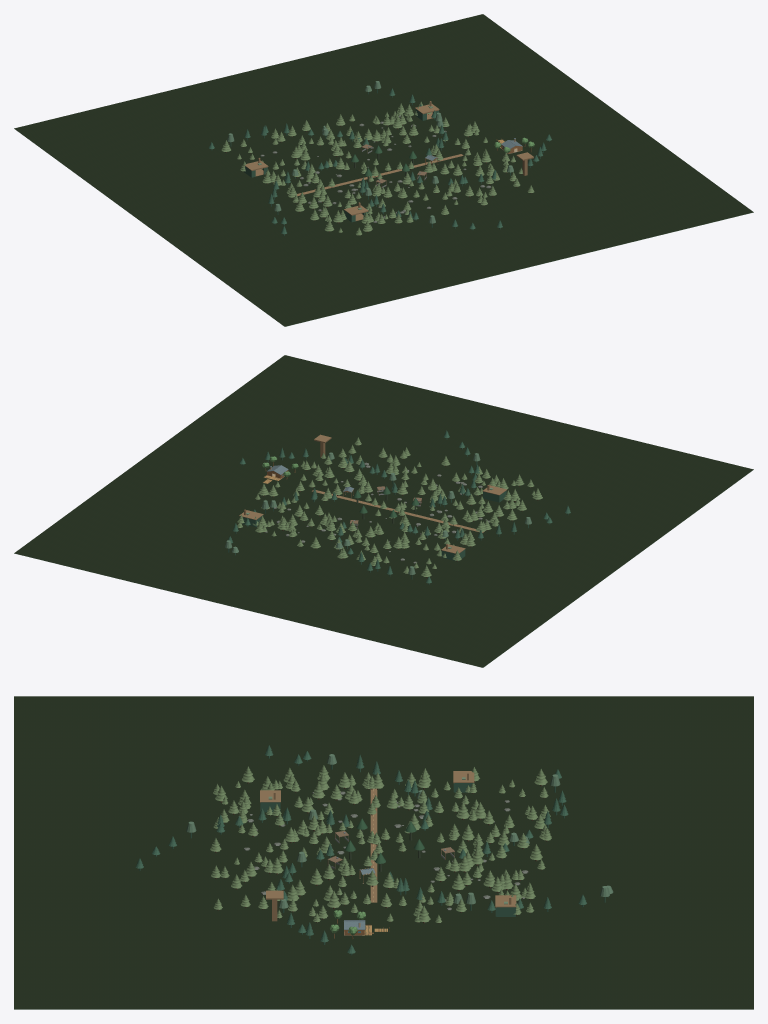
The picture shows the model from 3 angles, top to bottom: view 1: azimuth 30°, elevation 25°; view 2: azimuth 150°, elevation 25°; view 3: azimuth 270°, elevation 25°; orthographic projection. The views are drawn at different scales.
Visible parts, largest first — view 1: Runtime FPV textured terrain forest, Runtime Material_2, Runtime forest_1_0_0, Runtime forest_2_0_0, Runtime forest_0_0_0; view 2: Runtime FPV textured terrain forest, Runtime Material_2, Runtime forest_1_0_0, Runtime forest_0_0_0, Runtime forest_2_0_0; view 3: Runtime FPV textured terrain forest, Runtime Material_2, Runtime forest_1_0_0, Runtime forest_0_0_0, Runtime forest_2_0_0, Runtime Material_5.
Boxes of the visible parts, <box> form: Runtime FPV textured terrain forest: <box>14,14,753,326</box>; Runtime Material_2: <box>221,101,534,235</box>; Runtime forest_1_0_0: <box>208,88,551,235</box>; Runtime forest_2_0_0: <box>244,101,533,220</box>; Runtime forest_0_0_0: <box>15,81,753,326</box>; Runtime FPV textured terrain forest: <box>14,355,753,667</box>; Runtime Material_2: <box>237,437,542,576</box>; Runtime forest_1_0_0: <box>228,430,570,584</box>; Runtime forest_0_0_0: <box>14,452,752,667</box>; Runtime forest_2_0_0: <box>239,434,507,553</box>; Runtime FPV textured terrain forest: <box>14,696,753,1009</box>; Runtime Material_2: <box>210,765,551,922</box>; Runtime forest_1_0_0: <box>135,745,608,955</box>; Runtime forest_0_0_0: <box>14,754,753,1009</box>; Runtime forest_2_0_0: <box>260,771,516,921</box>; Runtime Material_5: <box>244,791,528,910</box>.
Bounding box in the file's own units: 880 × 35.12 × 880.
Materials: 22 (8 with a texture image).
